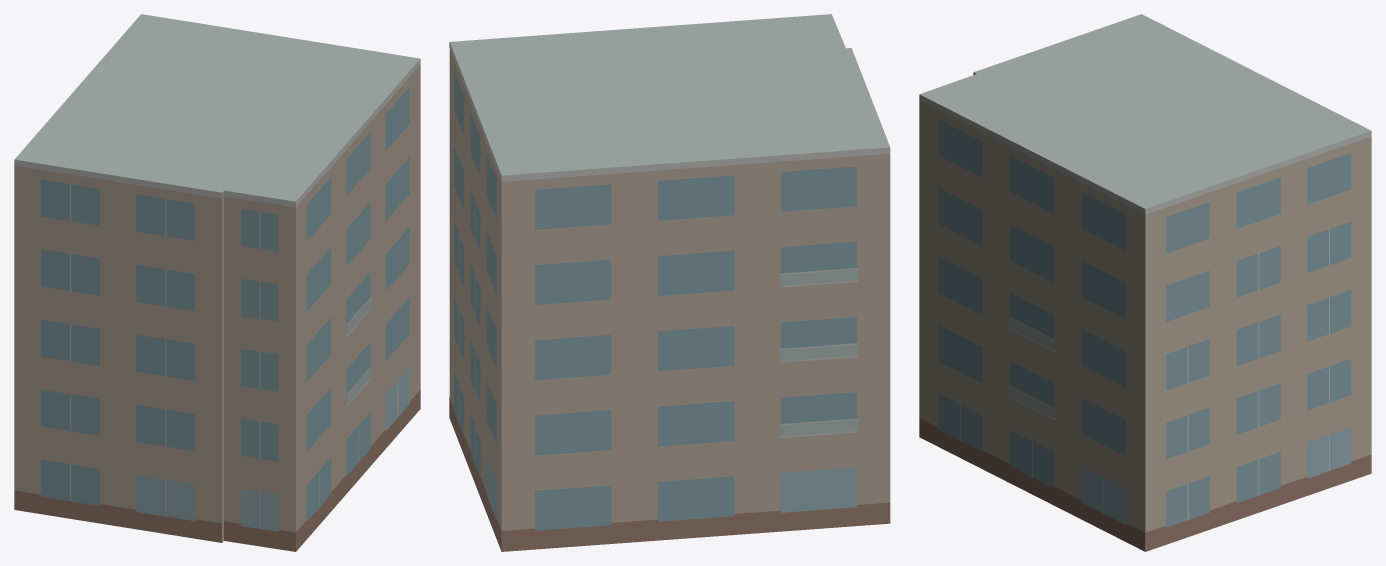
The model's file is survey-upis-32995194.glb.
3 views of the same model, side by side, from view 1: azimuth 30°, elevation 25°; view 2: azimuth 150°, elevation 25°; view 3: azimuth 270°, elevation 25° (orthographic). The views are drawn at different scales.
Parts seen in each view (by area): view 1: survey-upis-32995194.tmp; view 2: survey-upis-32995194.tmp; view 3: survey-upis-32995194.tmp.
Boxes of the visible parts, x1,y1,x2,y2 form: survey-upis-32995194.tmp: [14, 14, 420, 551]; survey-upis-32995194.tmp: [449, 14, 890, 551]; survey-upis-32995194.tmp: [919, 14, 1371, 551].
Size of the model in its own units: 17.82 by 14.6 by 17.46.
